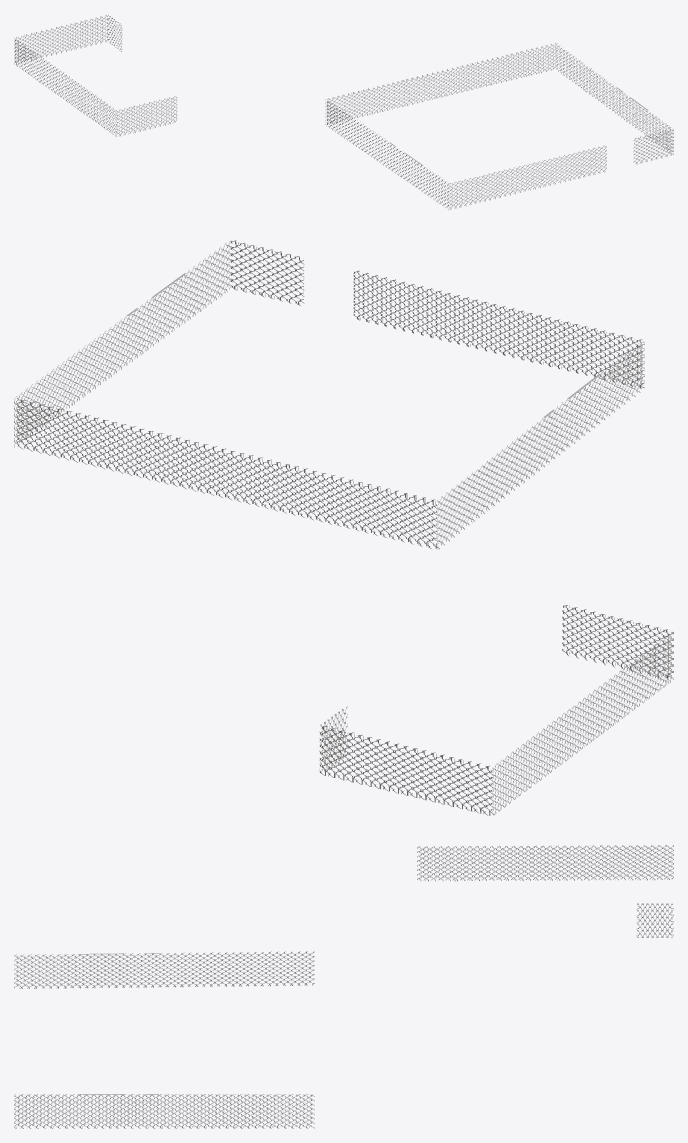
Rendered from newfence.fbx.
3 views of the same model, one above another, from view 1: azimuth 30°, elevation 25°; view 2: azimuth 150°, elevation 25°; view 3: azimuth 270°, elevation 25° (orthographic). The views are drawn at different scales.
Parts seen in each view (by area): view 1: pCube386; view 2: pCube386; view 3: pCube386.
Part boxes in pixels (box(x1,y1,x2,y2)): pCube386: box(14, 15, 673, 209); pCube386: box(14, 240, 673, 815); pCube386: box(14, 845, 673, 1128).
Bounding box in the file's own units: 57.47 × 3.72 × 64.2.
Materials: 1 (1 with a texture image).
